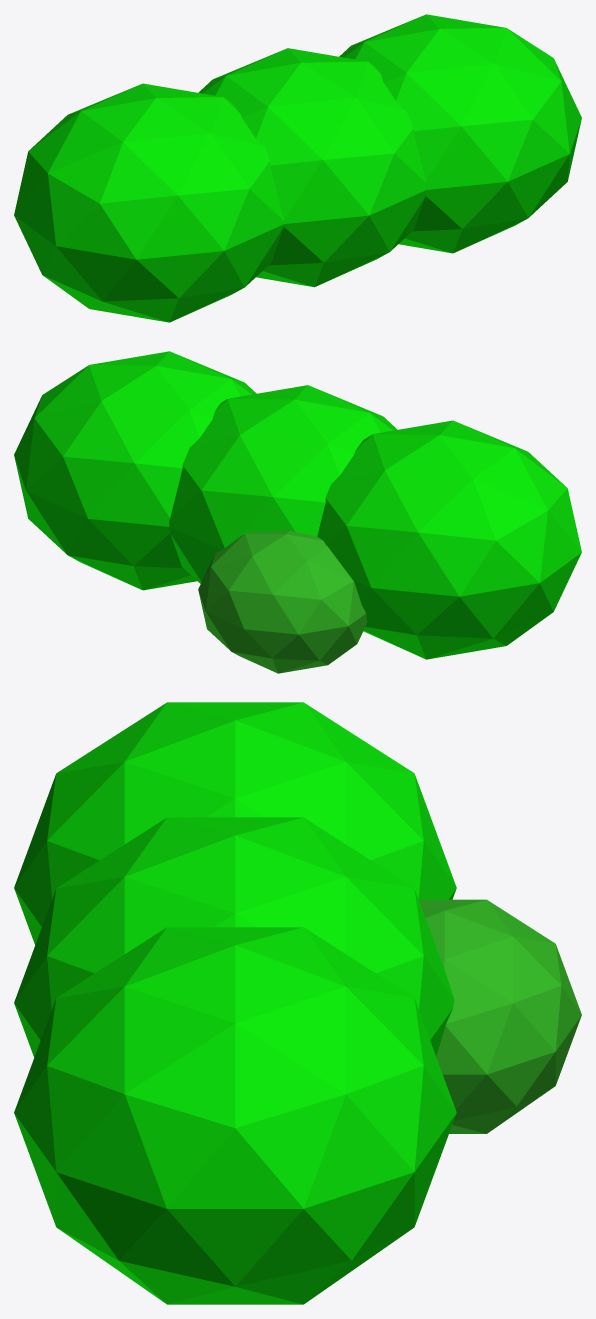
Rendered from Bush.001.glb.
3 renders of one model, top to bottom at view 1: azimuth 30°, elevation 25°; view 2: azimuth 150°, elevation 25°; view 3: azimuth 270°, elevation 25°, orthographic. The views are drawn at different scales.
Parts seen in each view (by area): view 1: Bush.001; view 2: Bush.001; view 3: Bush.001.
Part boxes in pixels (x1,y1,x2,y2): Bush.001: [14, 14, 581, 322]; Bush.001: [14, 351, 581, 673]; Bush.001: [14, 702, 581, 1304].
Bounding box in the file's own units: 11.69 × 4.14 × 6.73.
